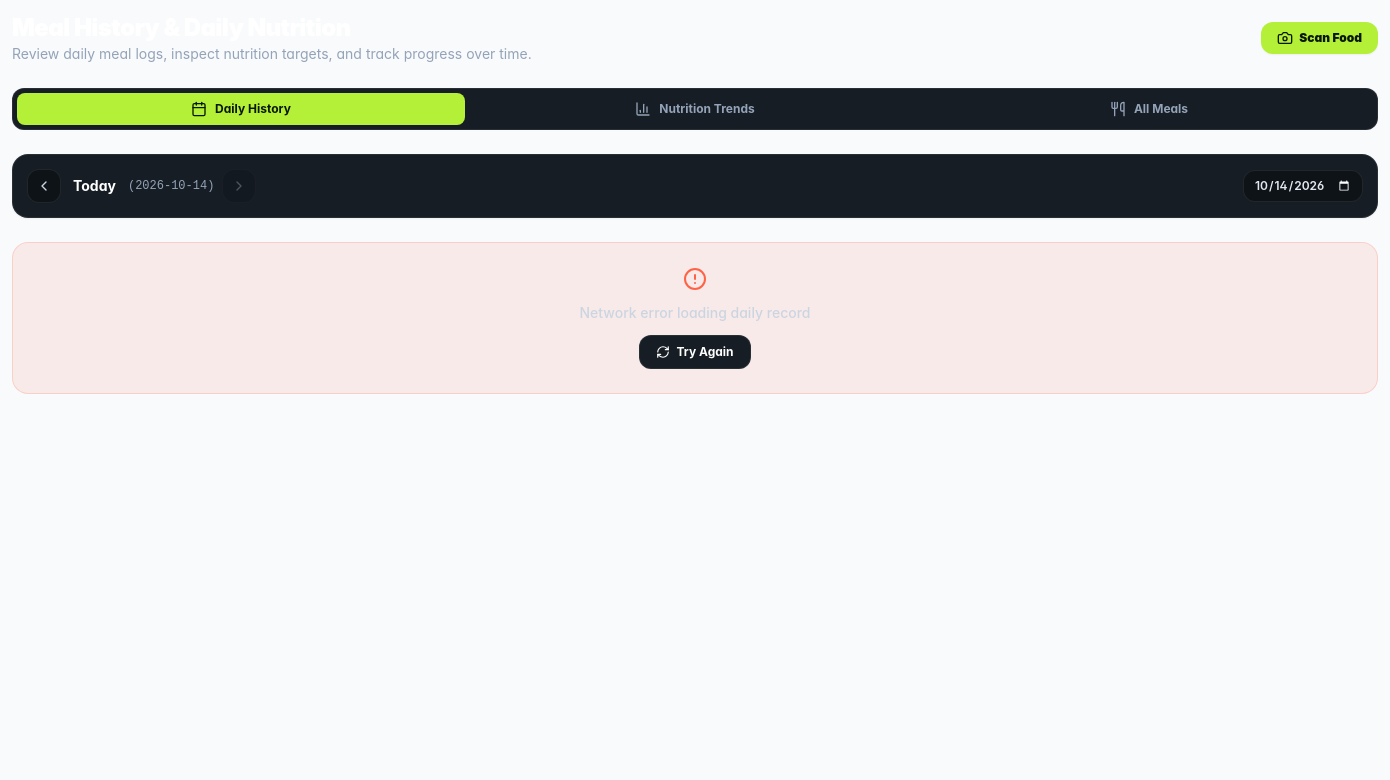
MealHistory Component - Date Navigation, Daily Totals & Historical Trends › 5. Handles API failure gracefully with Try Again retry action
The width and height of the screenshot is (1390, 780).
Expected: the text "Network error loading daily record" is shown, [580, 304, 810, 321]
# Click Try Again
Click the button "Try Again" at (695, 352), box [640, 335, 750, 369]
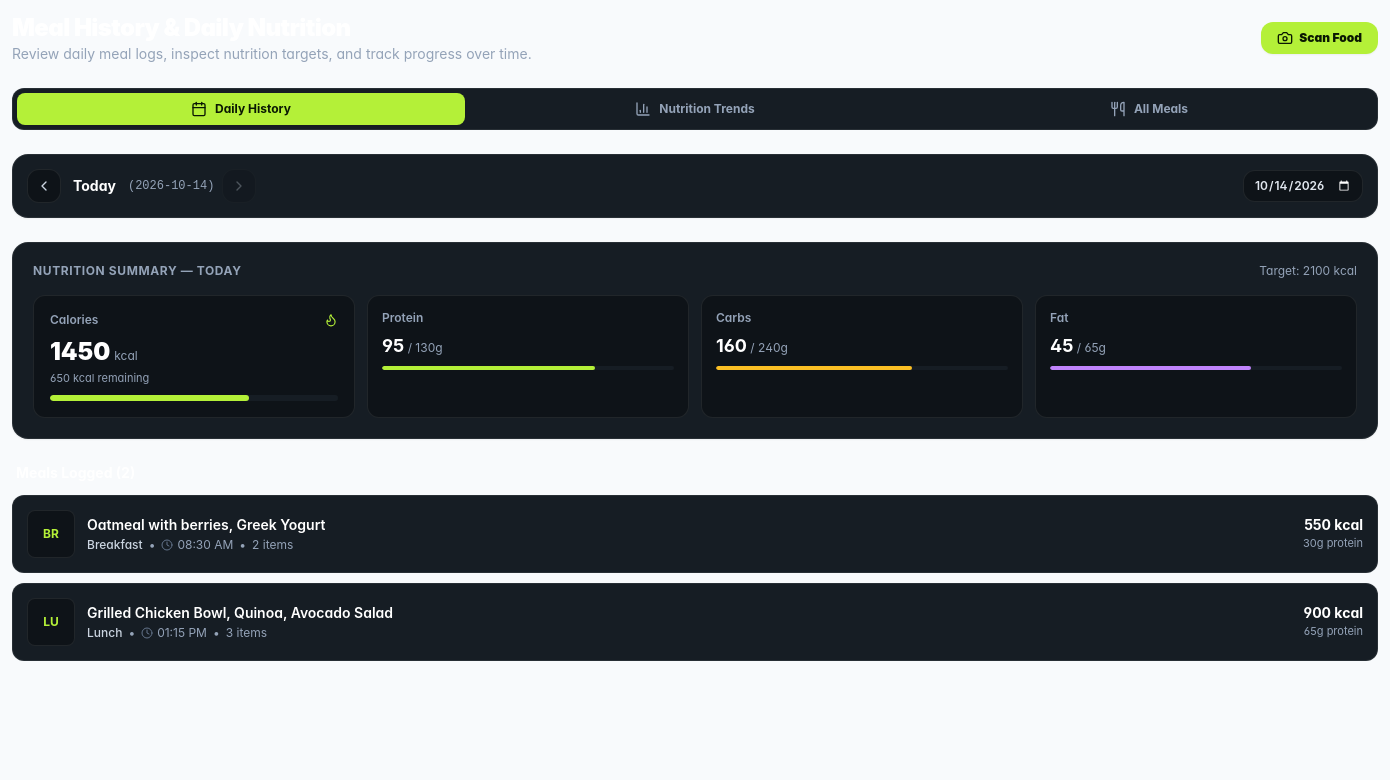
Expected: the text "1450" is shown, [50, 337, 110, 366]
